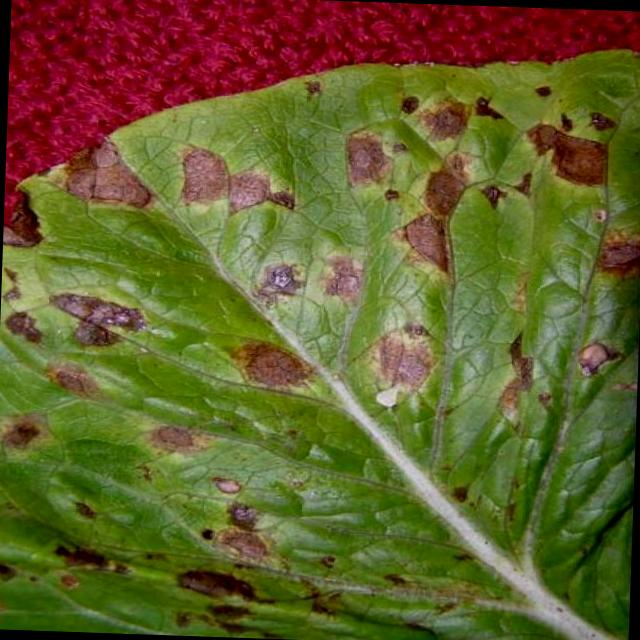Septoria_Blight: (27, 97, 621, 640)
